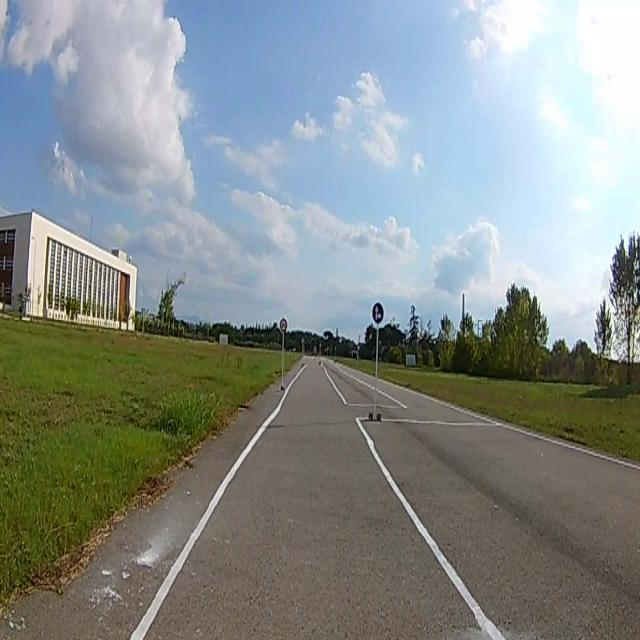ilerisag: (372, 303, 383, 323)
